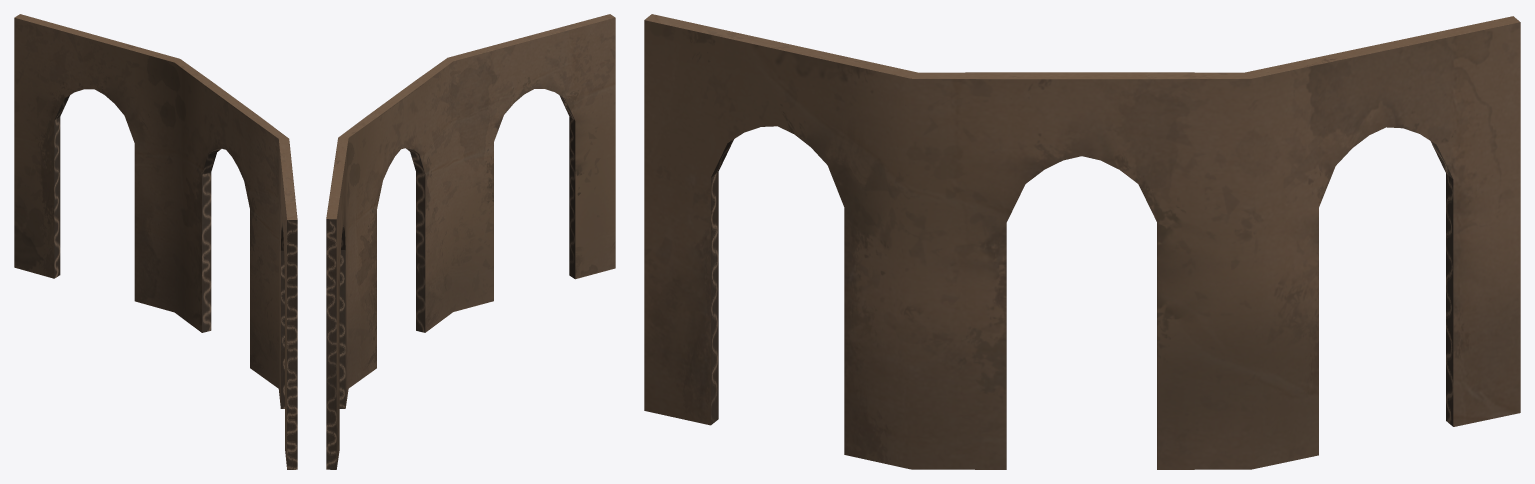
File: curved_wall.fbx
3 renders of one model, left to right at view 1: azimuth 30°, elevation 25°; view 2: azimuth 150°, elevation 25°; view 3: azimuth 270°, elevation 25°, orthographic. The views are drawn at different scales.
Parts seen in each view (by area): view 1: pCube1; view 2: pCube1; view 3: pCube1.
Part boxes in pixels (bbox=[...]): pCube1: bbox=[14, 14, 297, 469]; pCube1: bbox=[326, 14, 615, 469]; pCube1: bbox=[644, 14, 1520, 469].
Size of the model in its own units: 3.91 by 10.9 by 22.17.
1 material, 1 textured.
